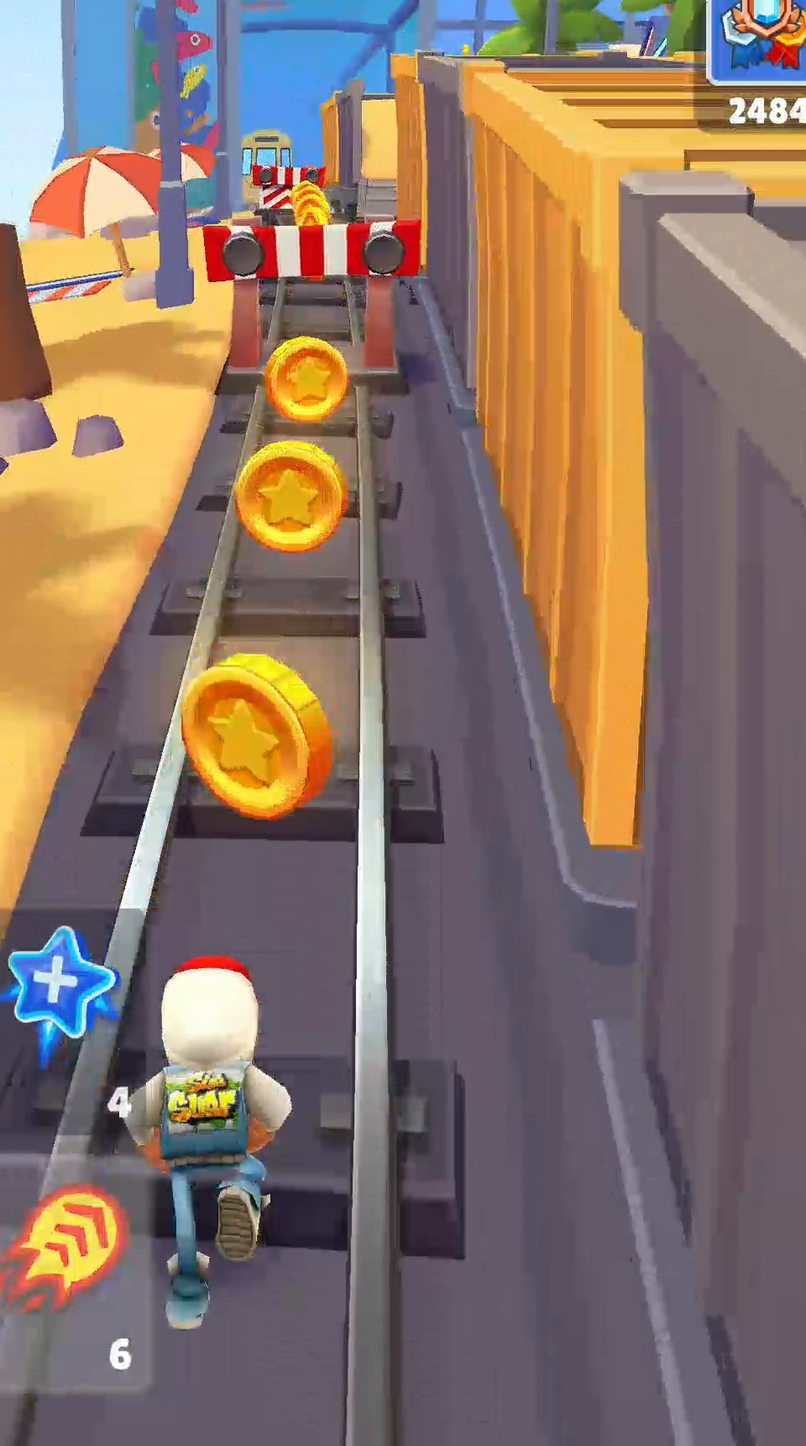blocker: (203, 218, 419, 375)
roll blocker: (252, 166, 326, 218)
train: (392, 53, 805, 1445), (322, 91, 358, 184), (244, 130, 291, 167)
